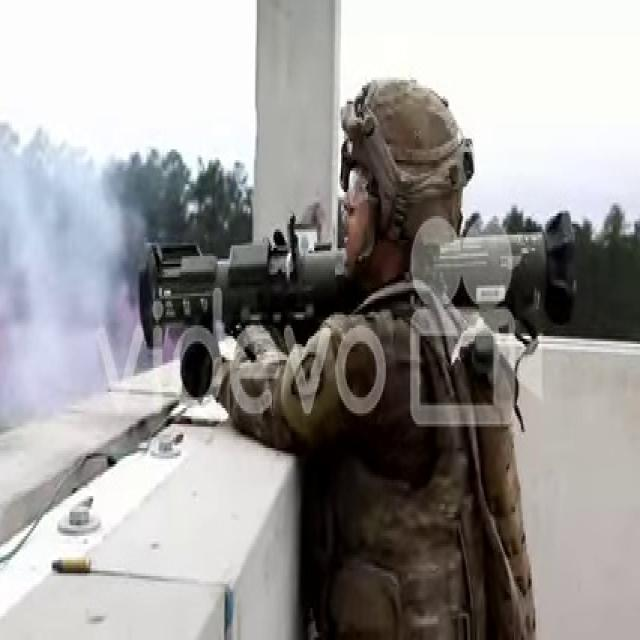bazooka: (128, 203, 585, 347)
